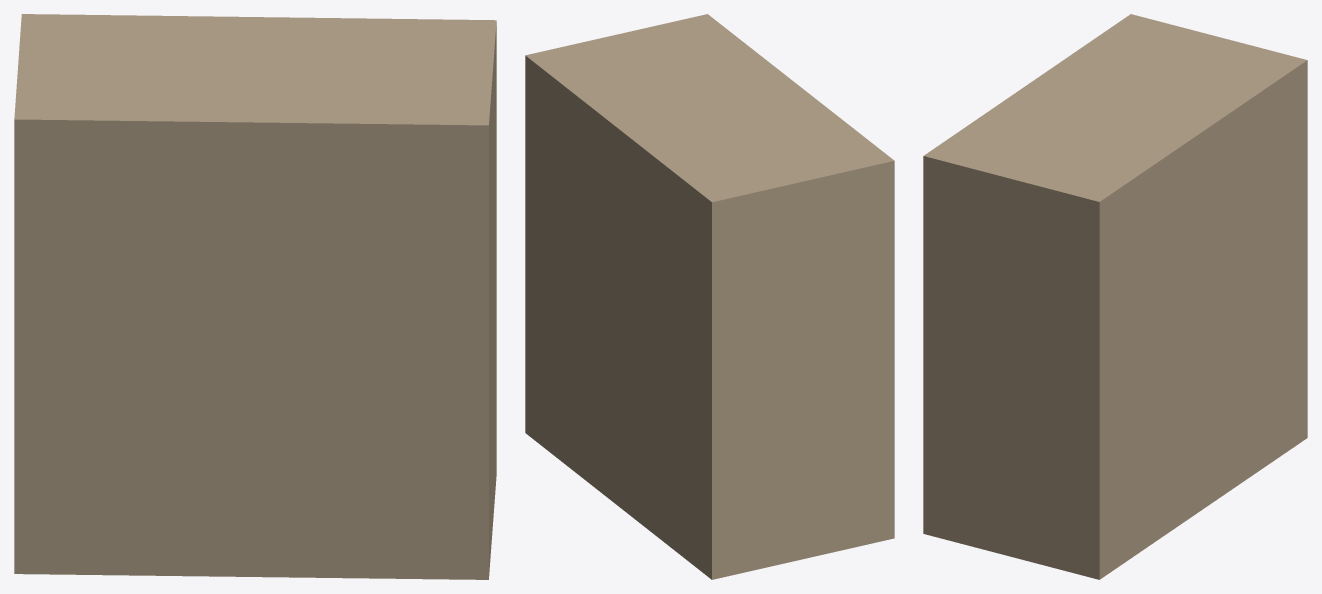
File: bld_101791667.dae
The picture shows the model from 3 angles, left to right: view 1: azimuth 30°, elevation 25°; view 2: azimuth 150°, elevation 25°; view 3: azimuth 270°, elevation 25°; orthographic projection. The views are drawn at different scales.
Parts seen in each view (by area): view 1: bld_101791667; view 2: bld_101791667; view 3: bld_101791667.
Part boxes in pixels (box(x1,y1,x2,y2)): bld_101791667: box(14, 14, 496, 579); bld_101791667: box(525, 14, 894, 579); bld_101791667: box(923, 14, 1307, 579).
Size of the model in its own units: 8.54 by 7.37 by 8.
